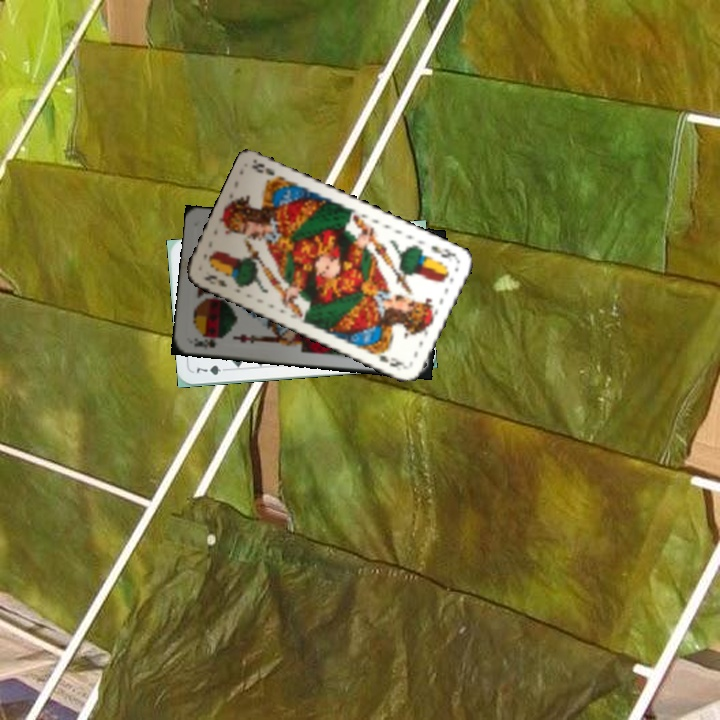EK: (426, 241, 460, 261), (200, 271, 230, 290)
G7: (191, 361, 232, 378)
SK: (189, 332, 225, 351)
